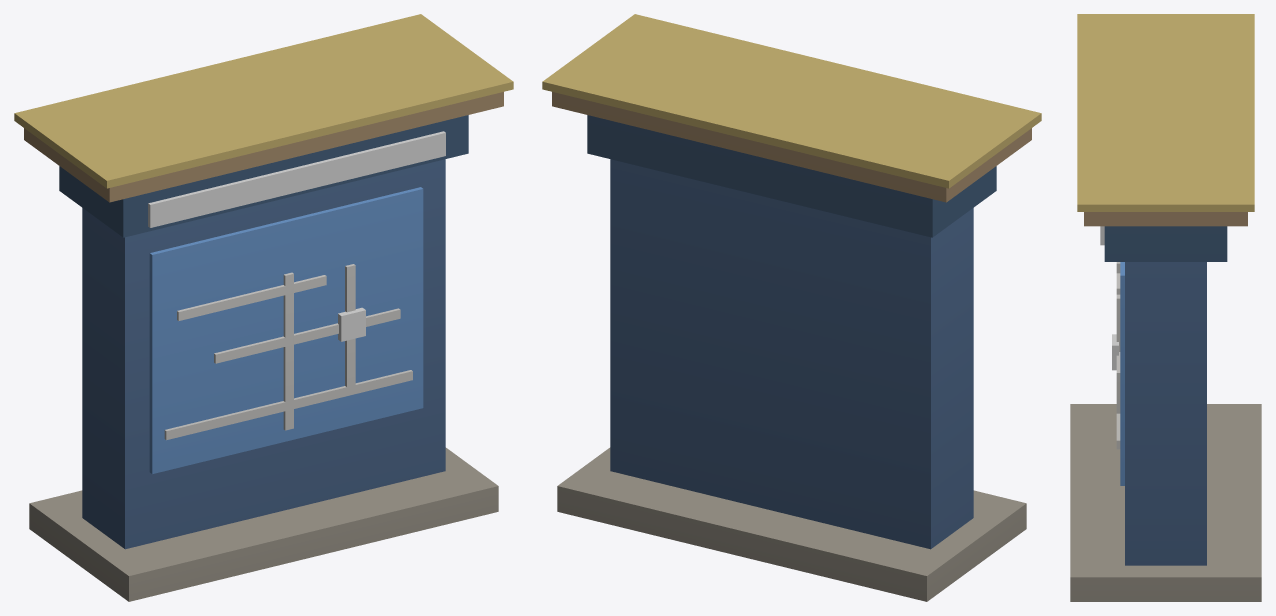
File: gate_kiosk.glb
3 renders of one model, left to right at view 1: azimuth 30°, elevation 25°; view 2: azimuth 150°, elevation 25°; view 3: azimuth 270°, elevation 25°, orthographic. The views are drawn at different scales.
Parts seen in each view (by area): view 1: gate_kiosk; view 2: gate_kiosk; view 3: gate_kiosk.
Boxes of the visible parts, x1=… form: gate_kiosk: x1=14, y1=14, x2=513, y2=601; gate_kiosk: x1=542, y1=14, x2=1041, y2=601; gate_kiosk: x1=1070, y1=14, x2=1261, y2=601.
Size of the model in its own units: 3.3 by 3.28 by 1.4.
